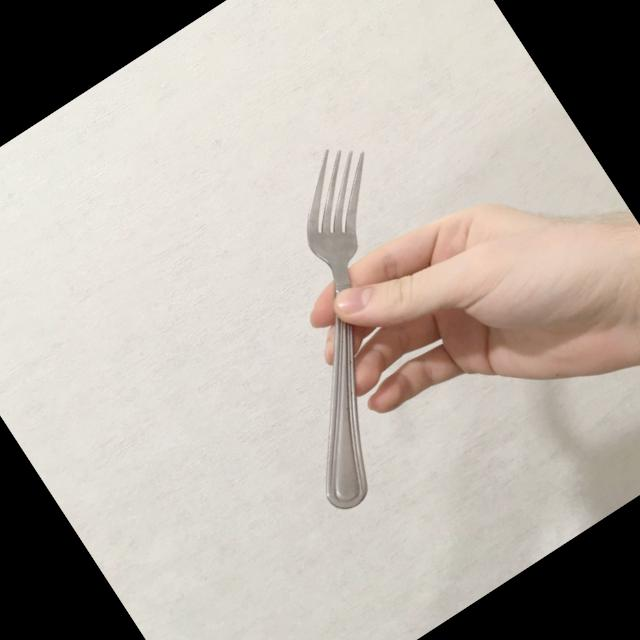fork: (168, 129, 529, 517)
